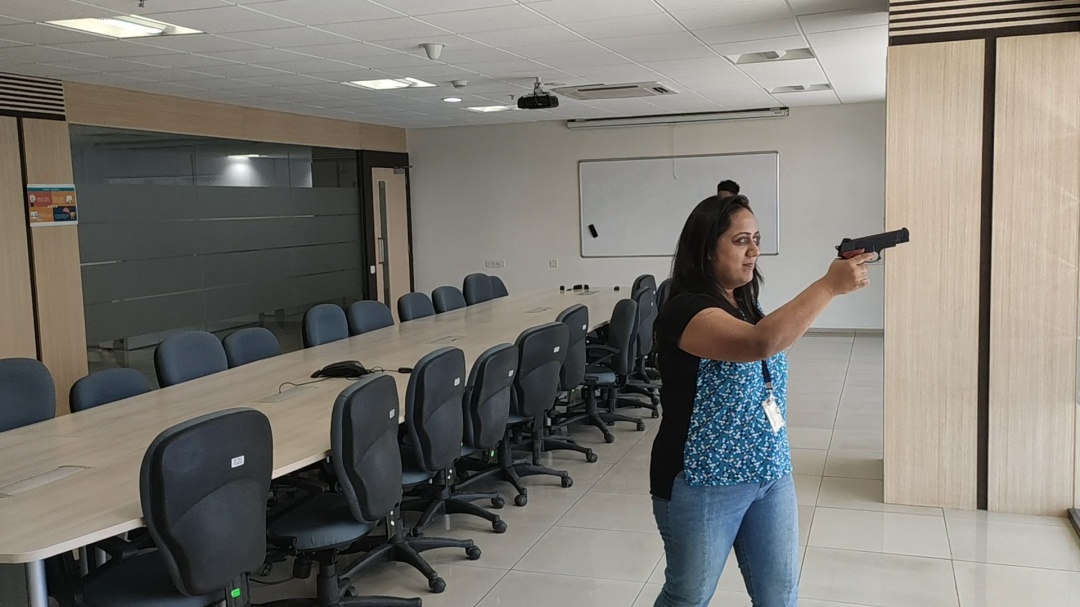gun: (833, 227, 911, 264)
